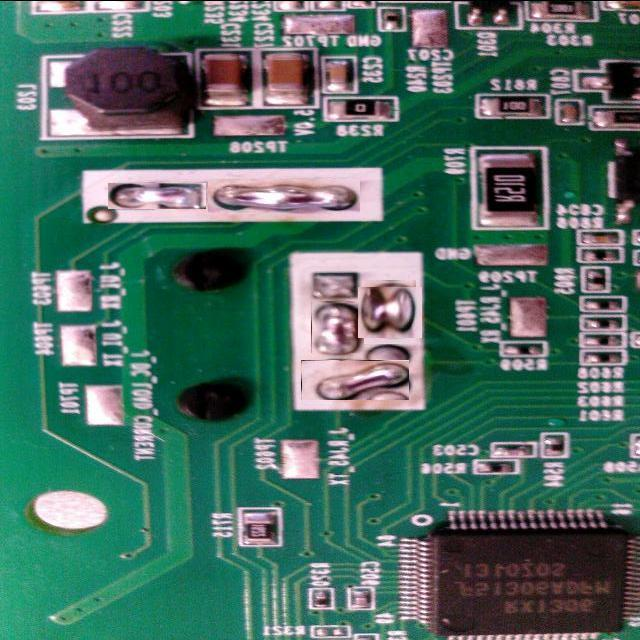Short_circuit: (208, 179, 360, 214), (301, 360, 409, 400), (361, 283, 419, 341), (311, 302, 364, 354), (108, 183, 206, 209)
